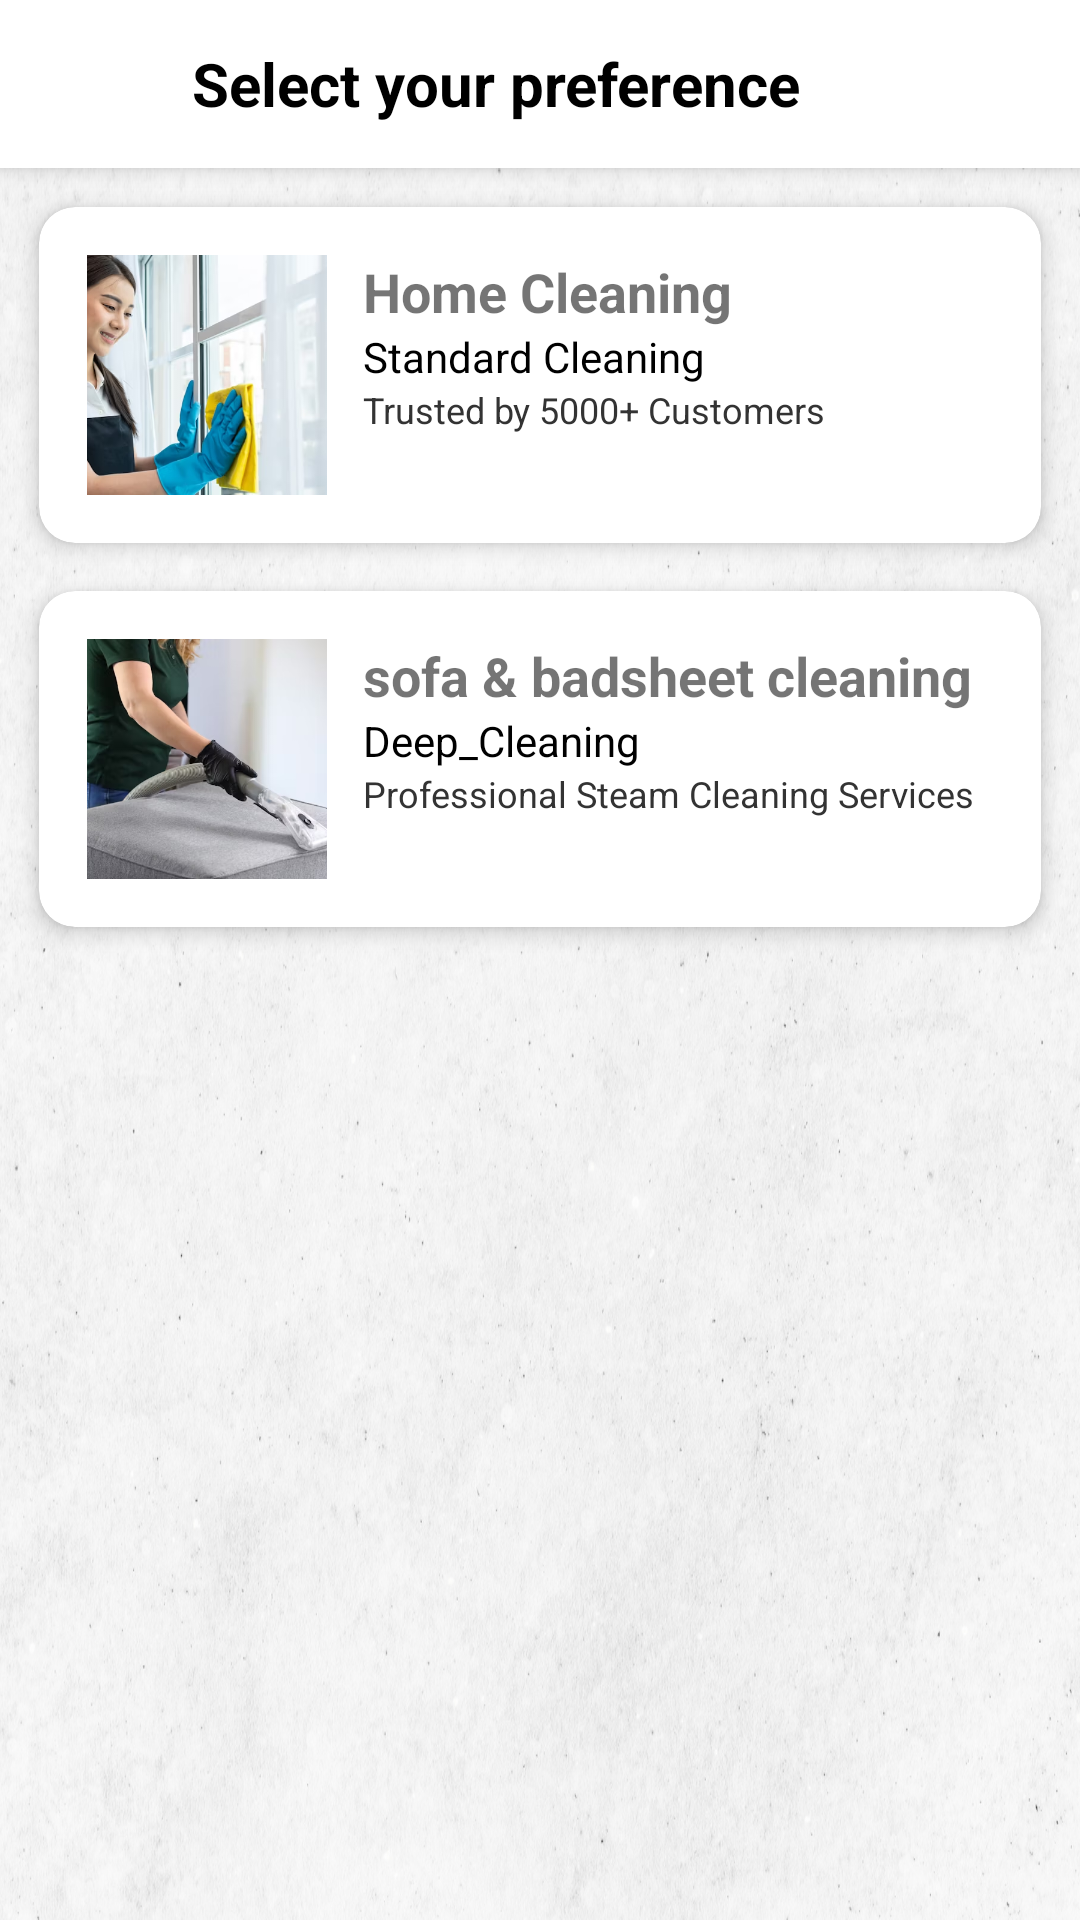

Where to tap for icons on this 1080x1920 app screen, as (x=x, y=y):
grid home sofa cleaning: (x=207, y=759)
